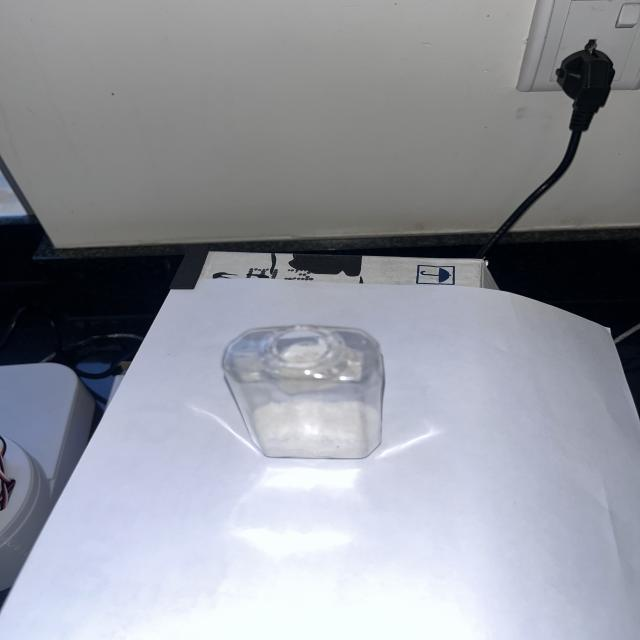salt: (256, 403, 372, 458)
